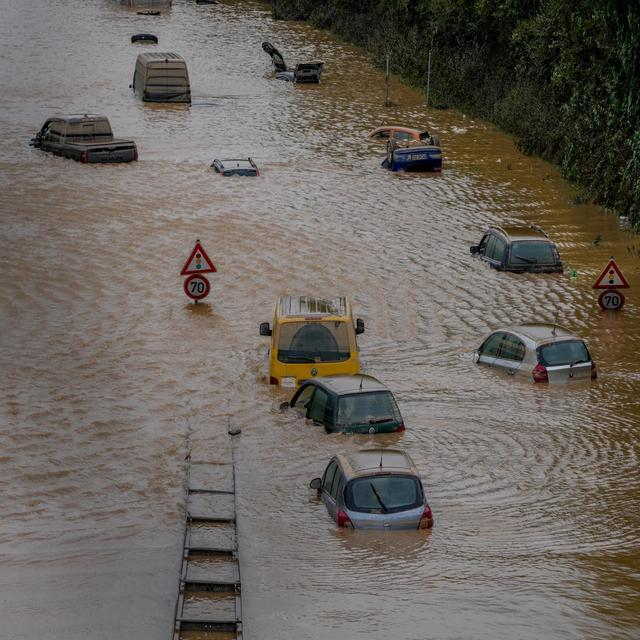Car-RiskLevel3: (299, 445, 451, 545), (255, 288, 376, 384), (277, 368, 417, 440), (470, 312, 603, 386), (452, 211, 581, 285), (23, 102, 144, 171), (124, 44, 210, 112), (249, 33, 338, 97), (364, 115, 452, 177), (198, 146, 280, 184)
